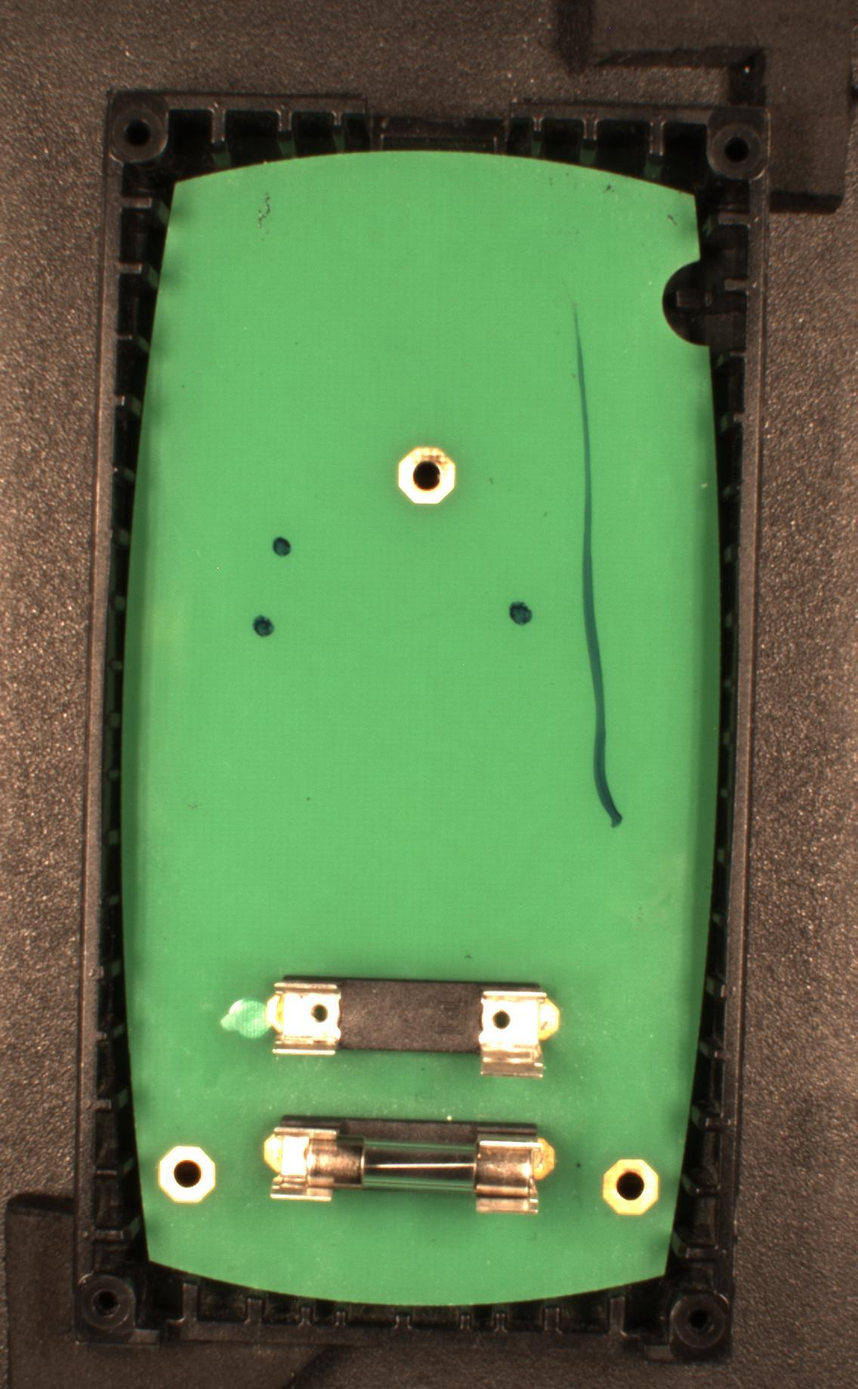Linijsko Ostecene: (563, 289, 629, 831)
Nepostojanje osiguraca: (266, 972, 560, 1081)
Tockasto Ostecenje: (507, 601, 534, 627), (252, 613, 277, 639), (270, 534, 294, 558)
